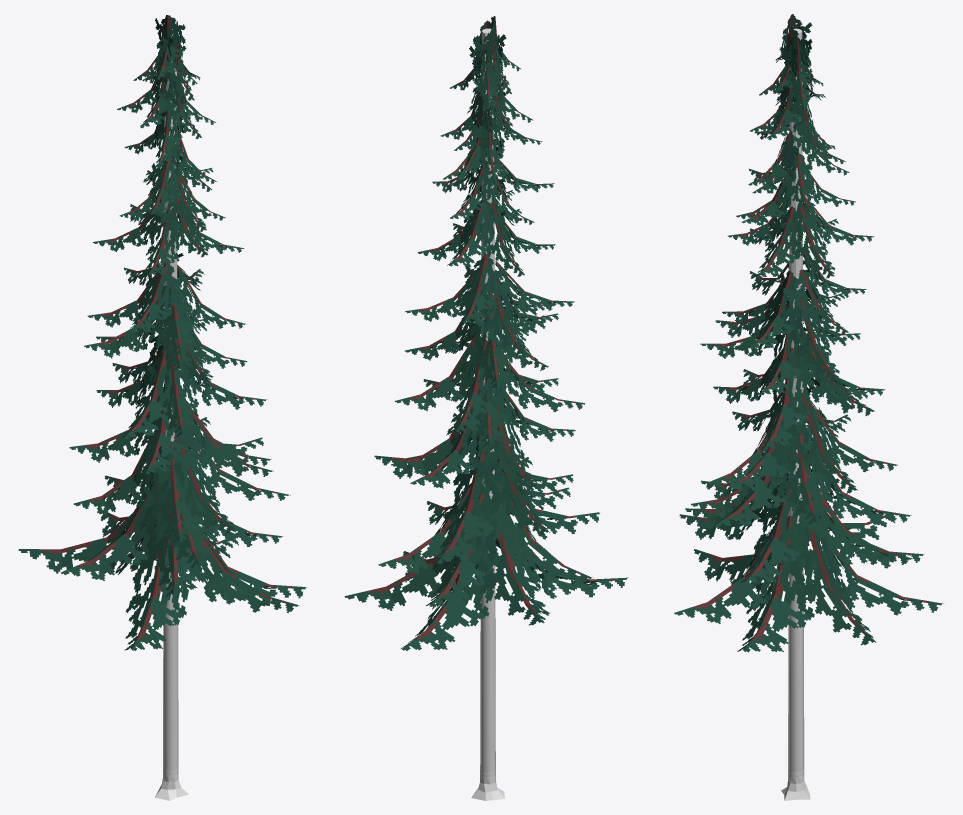
The model's file is Tree_Pine.fbx.
The picture shows the model from 3 angles, left to right: view 1: azimuth 30°, elevation 25°; view 2: azimuth 150°, elevation 25°; view 3: azimuth 270°, elevation 25°; orthographic projection.
Visible parts, largest first — view 1: Pine_Branch, Pine_Trunk, Pine_Trunk.001; view 2: Pine_Branch, Pine_Trunk, Pine_Trunk.001; view 3: Pine_Branch, Pine_Trunk, Pine_Trunk.001.
Part boxes in pixels (x1,y1,x2,y2): Pine_Branch: [18, 15, 307, 650]; Pine_Trunk: [163, 29, 178, 770]; Pine_Trunk.001: [154, 772, 188, 800]; Pine_Branch: [344, 16, 628, 650]; Pine_Trunk: [480, 28, 495, 772]; Pine_Trunk.001: [471, 773, 504, 800]; Pine_Branch: [674, 14, 943, 652]; Pine_Trunk: [788, 28, 804, 772]; Pine_Trunk.001: [781, 774, 810, 800].
Bounding box in the file's own units: 1793 × 5599 × 1875.
